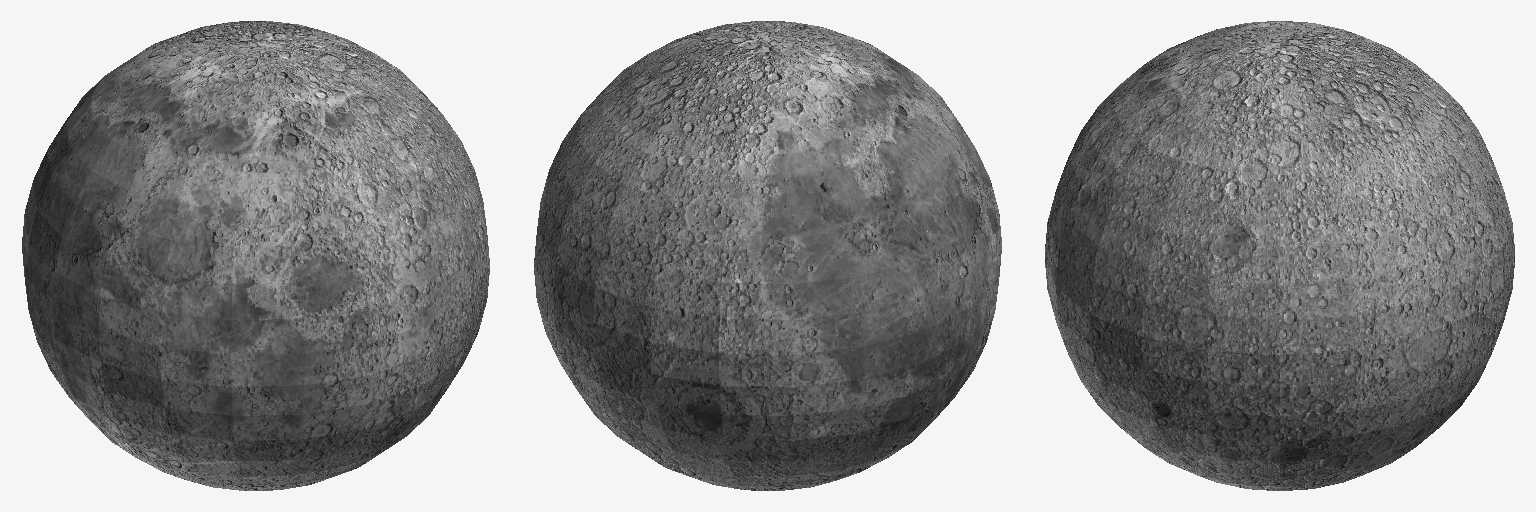
3 renders of one model, left to right at view 1: azimuth 30°, elevation 25°; view 2: azimuth 150°, elevation 25°; view 3: azimuth 270°, elevation 25°, orthographic.
Parts seen in each view (by area): view 1: pSphere1; view 2: pSphere1; view 3: pSphere1.
Part boxes in pixels (x1,y1,x2,y2): pSphere1: (22, 21, 489, 490); pSphere1: (534, 21, 1001, 490); pSphere1: (1045, 21, 1514, 490).
Size of the model in its own units: 0.6 by 0.6 by 0.6.
Materials: 1 (1 with a texture image).